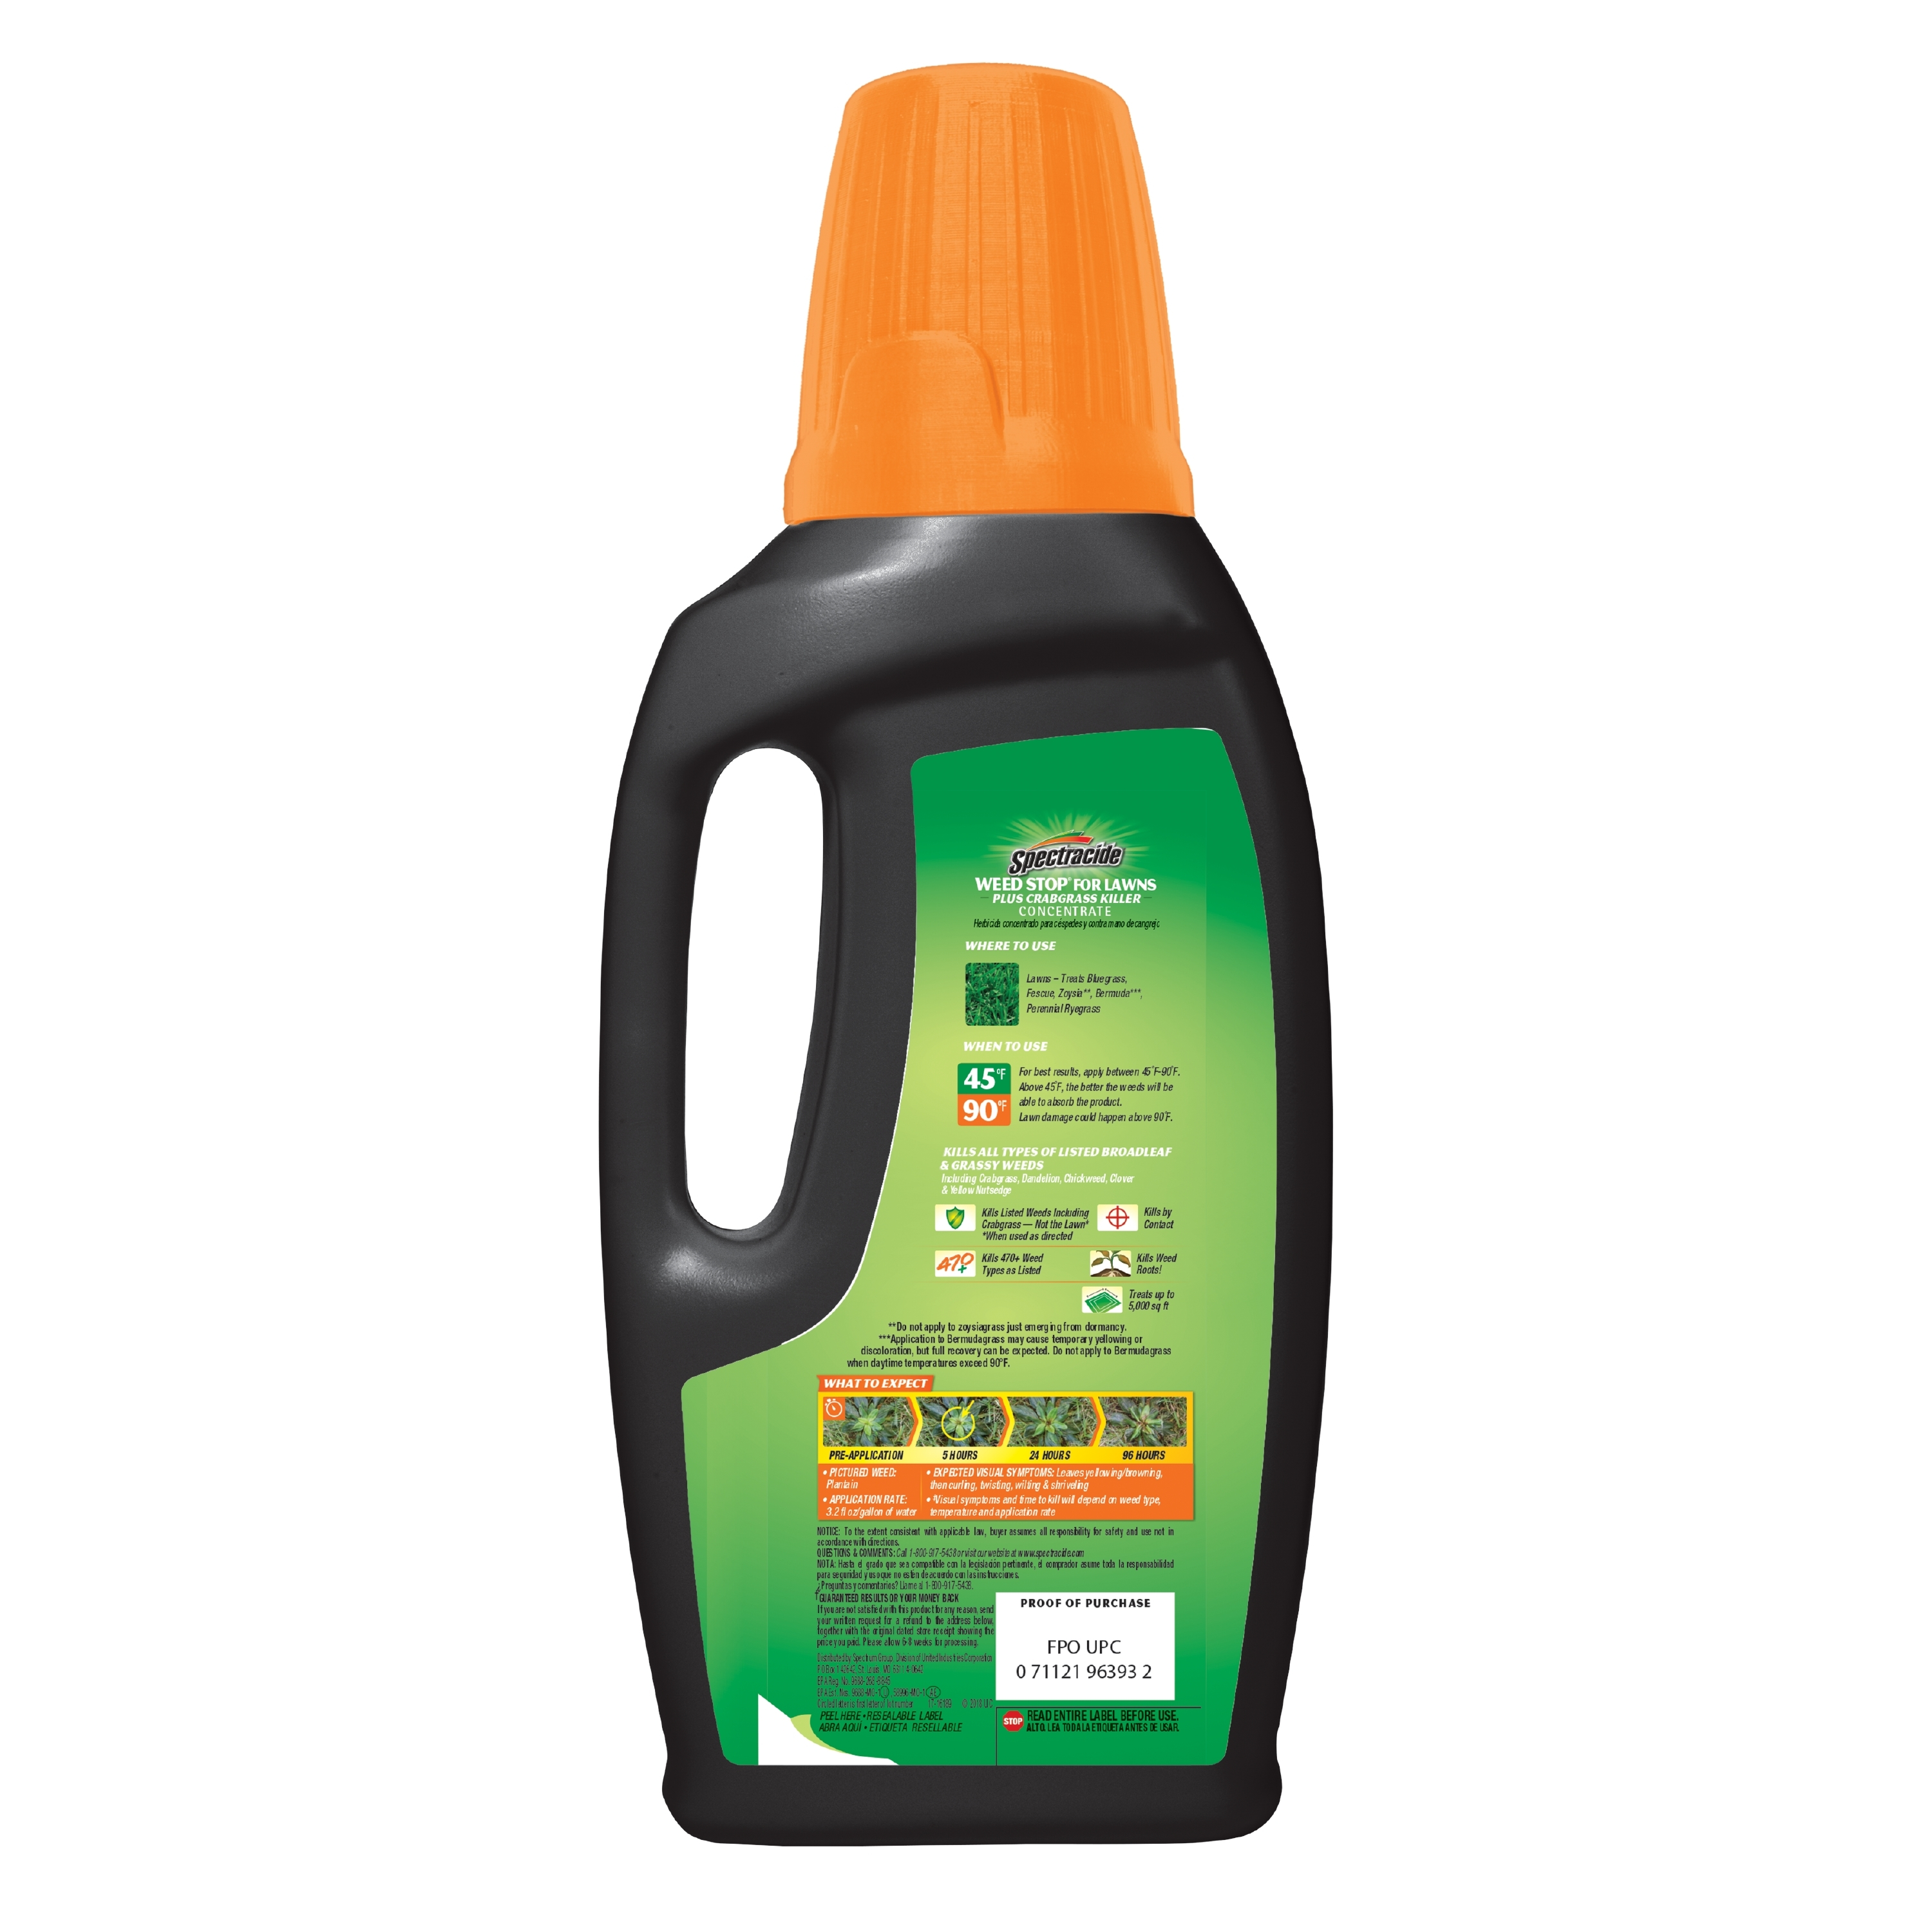crabgrass: (816, 1399, 911, 1458), (1012, 1380, 1090, 1447), (957, 964, 1031, 1019), (1106, 1387, 1180, 1442), (931, 1399, 994, 1449)
